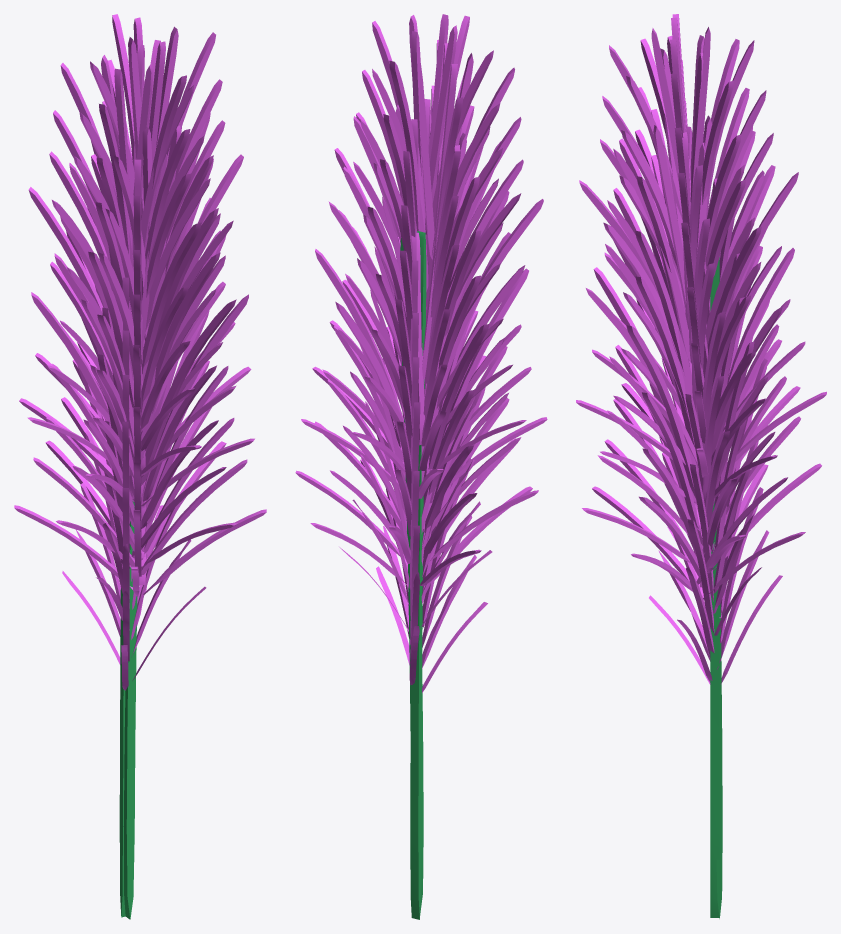
The model's file is cvjetPero.fbx.
The picture shows the model from 3 angles, left to right: view 1: azimuth 30°, elevation 25°; view 2: azimuth 150°, elevation 25°; view 3: azimuth 270°, elevation 25°; orthographic projection. The views are drawn at different scales.
Parts seen in each view (by area): view 1: CvijetPero_1; view 2: CvijetPero_1; view 3: CvijetPero_1.
Boxes of the visible parts, x1,y1,x2,y2 form: CvijetPero_1: (14,14,266,919); CvijetPero_1: (295,14,547,919); CvijetPero_1: (576,14,826,918).
Size of the model in its own units: 19.07 by 75.05 by 19.1.
